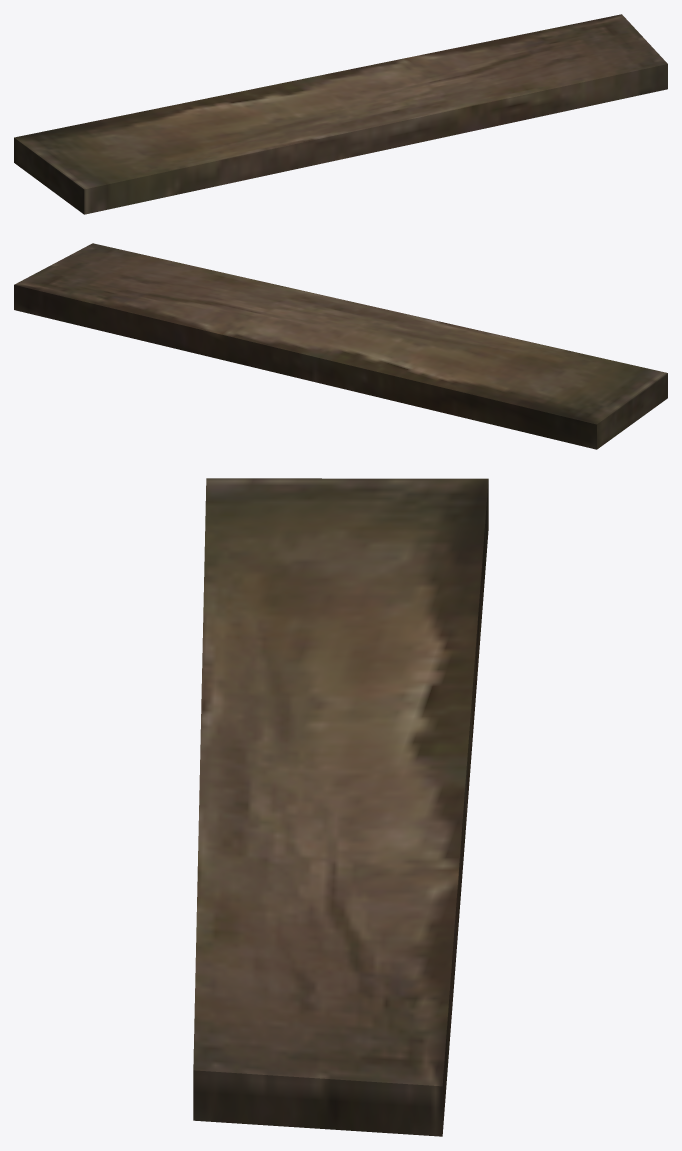
File: common_yewai_muban03.FBX
The picture shows the model from 3 angles, top to bottom: view 1: azimuth 30°, elevation 25°; view 2: azimuth 150°, elevation 25°; view 3: azimuth 270°, elevation 25°; orthographic projection. The views are drawn at different scales.
Visible parts, largest first — view 1: common_yewai_muban03; view 2: common_yewai_muban03; view 3: common_yewai_muban03.
Boxes of the visible parts, box(x1,y1,x2,y2) form: common_yewai_muban03: box(14, 14, 667, 214); common_yewai_muban03: box(14, 243, 667, 449); common_yewai_muban03: box(193, 478, 488, 1136).
Bounding box in the file's own units: 2.36 × 0.1476 × 0.5077.
